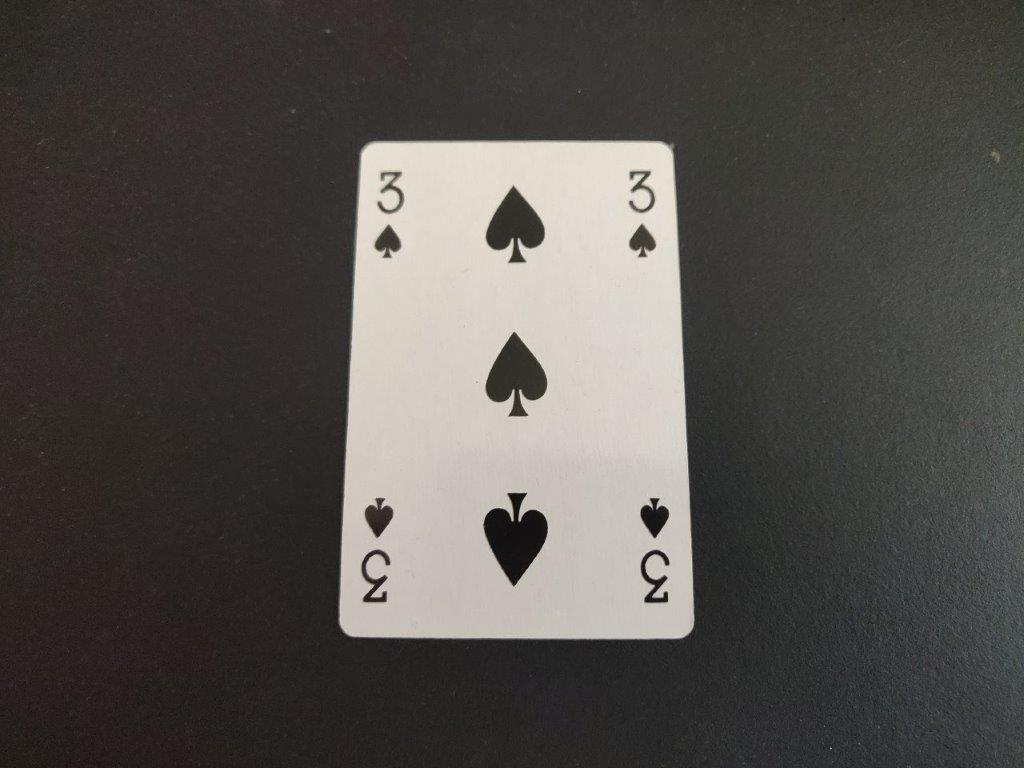3S: (617, 164, 665, 265), (368, 164, 410, 265)
